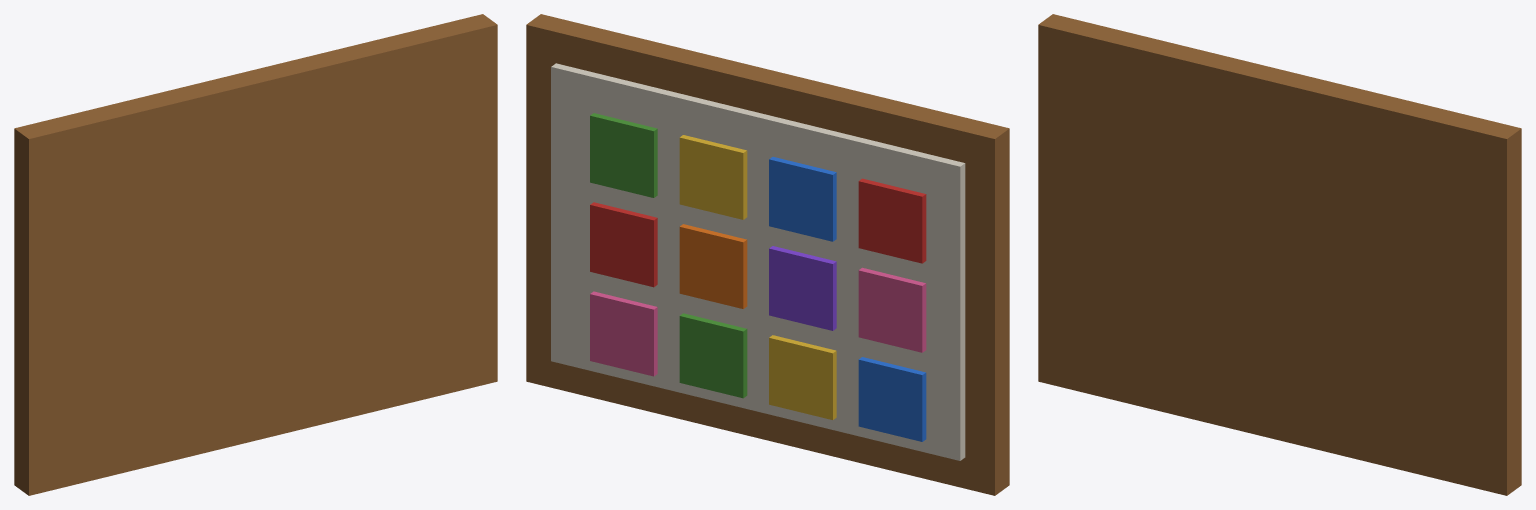
File: th-poster-letters.glb
3 views of the same model, side by side, from view 1: azimuth 30°, elevation 25°; view 2: azimuth 150°, elevation 25°; view 3: azimuth 330°, elevation 25° (orthographic).
Visible parts, largest first — view 1: box-prop; view 2: box-prop; view 3: box-prop.
Part boxes in pixels (x1=…): box-prop: x1=14, y1=14, x2=497, y2=495; box-prop: x1=526, y1=14, x2=1009, y2=495; box-prop: x1=1038, y1=14, x2=1521, y2=495.
Bounding box in the file's own units: 1.1 × 0.8 × 0.095.
